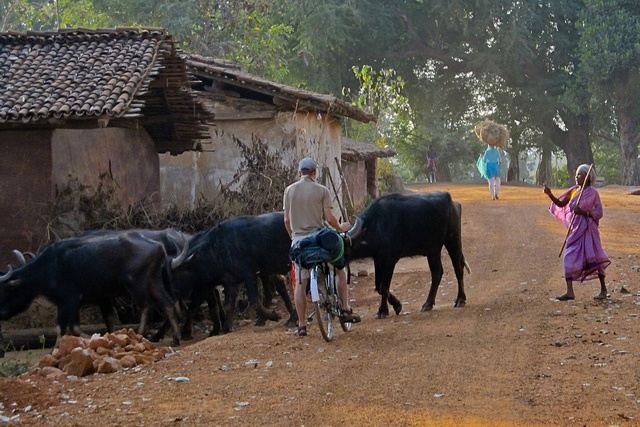non-vehicle: (310, 266, 352, 342), (426, 157, 438, 183)
